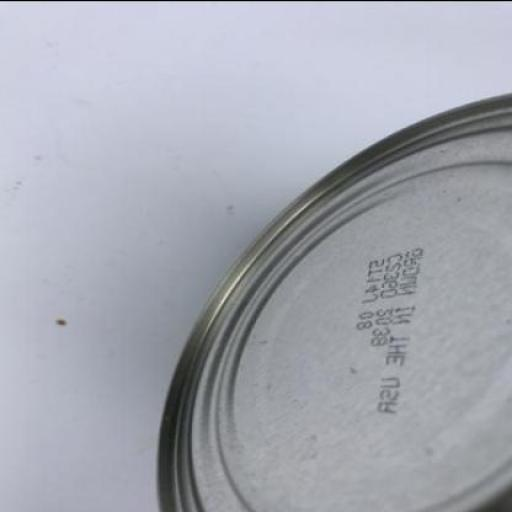metal: (155, 90, 511, 511)
